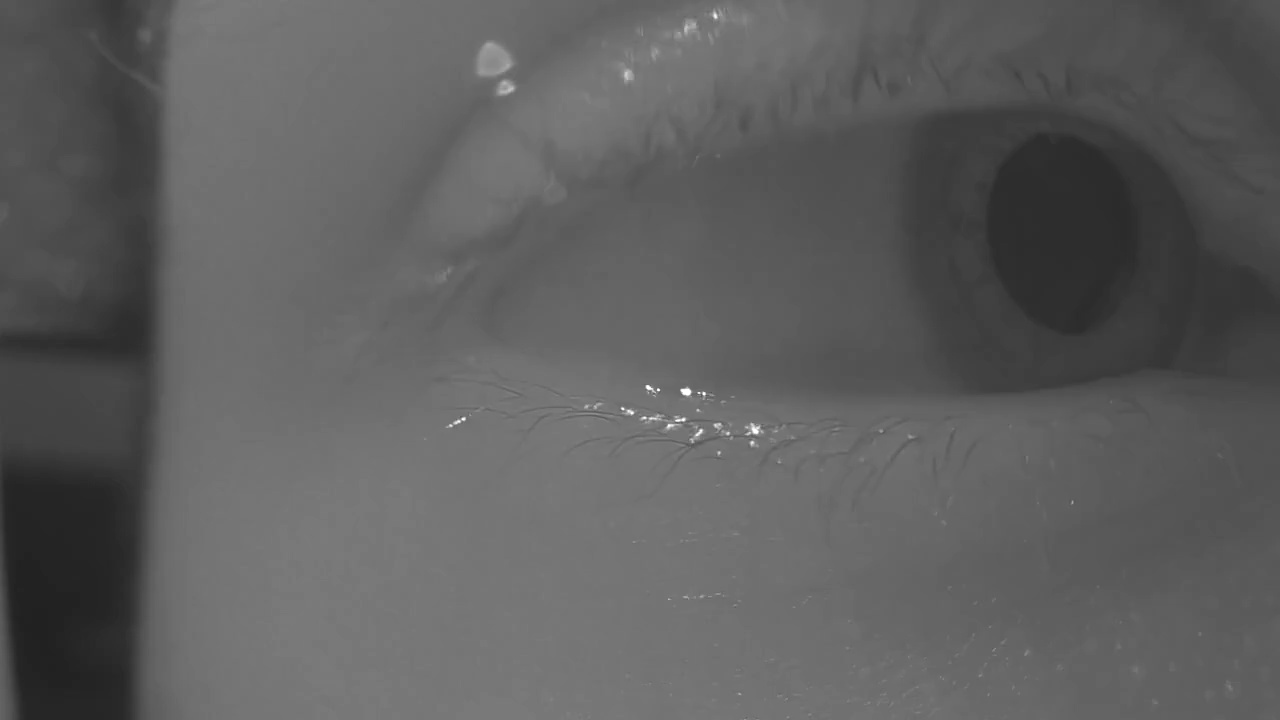pupil: (991, 134, 1139, 334)
